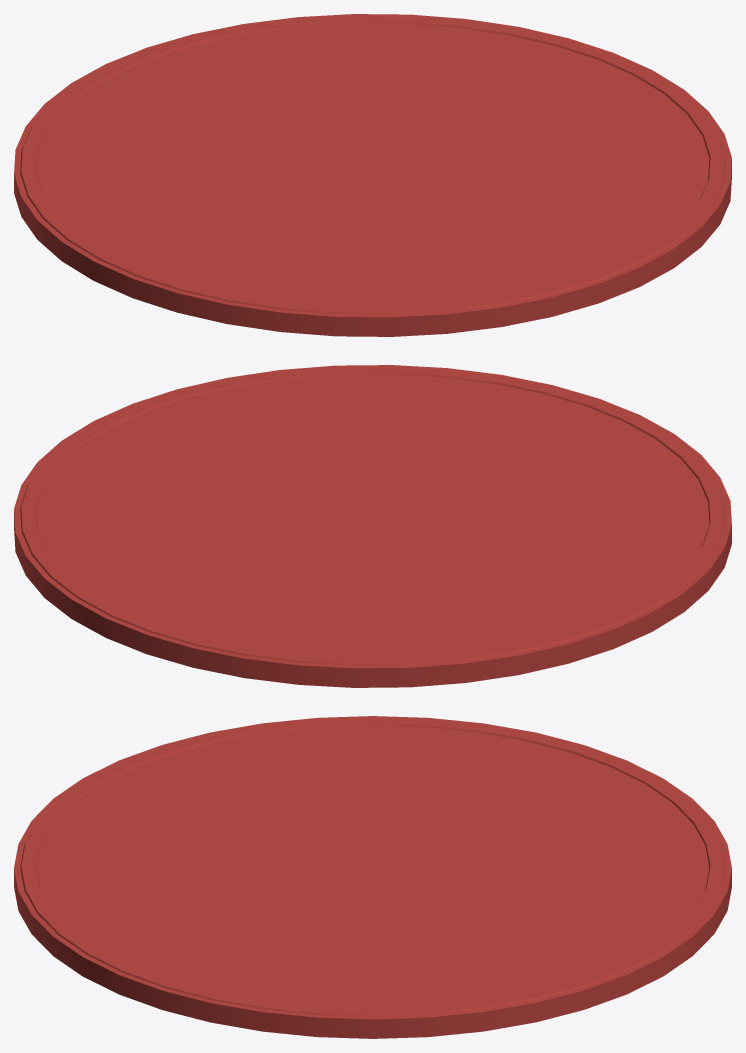
The model's file is oval.glb.
The picture shows the model from 3 angles, top to bottom: view 1: azimuth 30°, elevation 25°; view 2: azimuth 150°, elevation 25°; view 3: azimuth 270°, elevation 25°; orthographic projection.
Parts seen in each view (by area): view 1: lod0; view 2: lod0; view 3: lod0.
Boxes of the visible parts, x1,y1,x2,y2 form: lod0: (14, 14, 731, 336); lod0: (14, 365, 731, 687); lod0: (14, 716, 731, 1038).
Size of what is drawn, in the model's own units: 0.2 by 0.00693 by 0.2.
